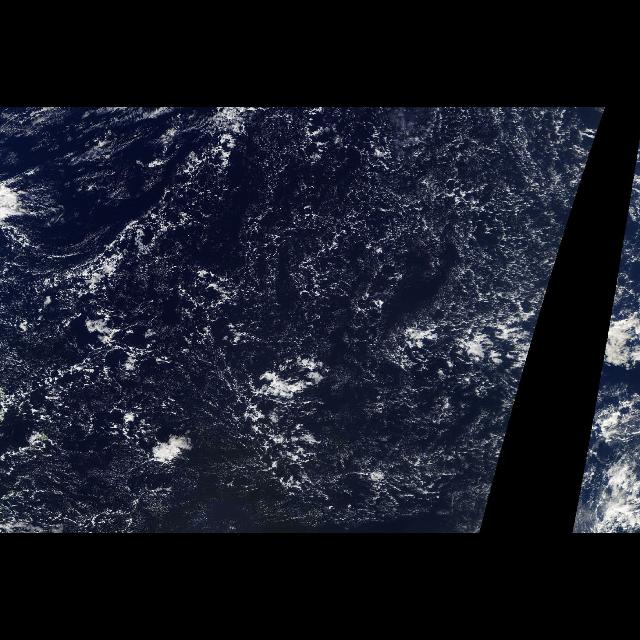Gravel: (8, 110, 596, 530), (572, 402, 596, 528)
